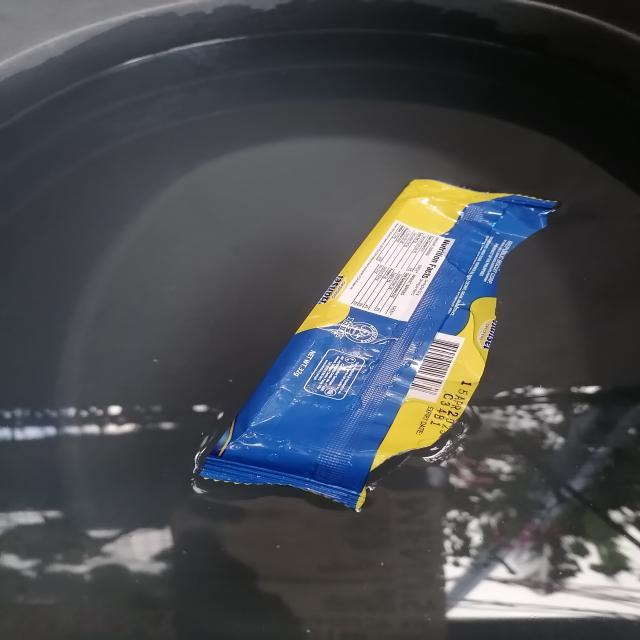Plastic Wrapper: (193, 180, 556, 512)
